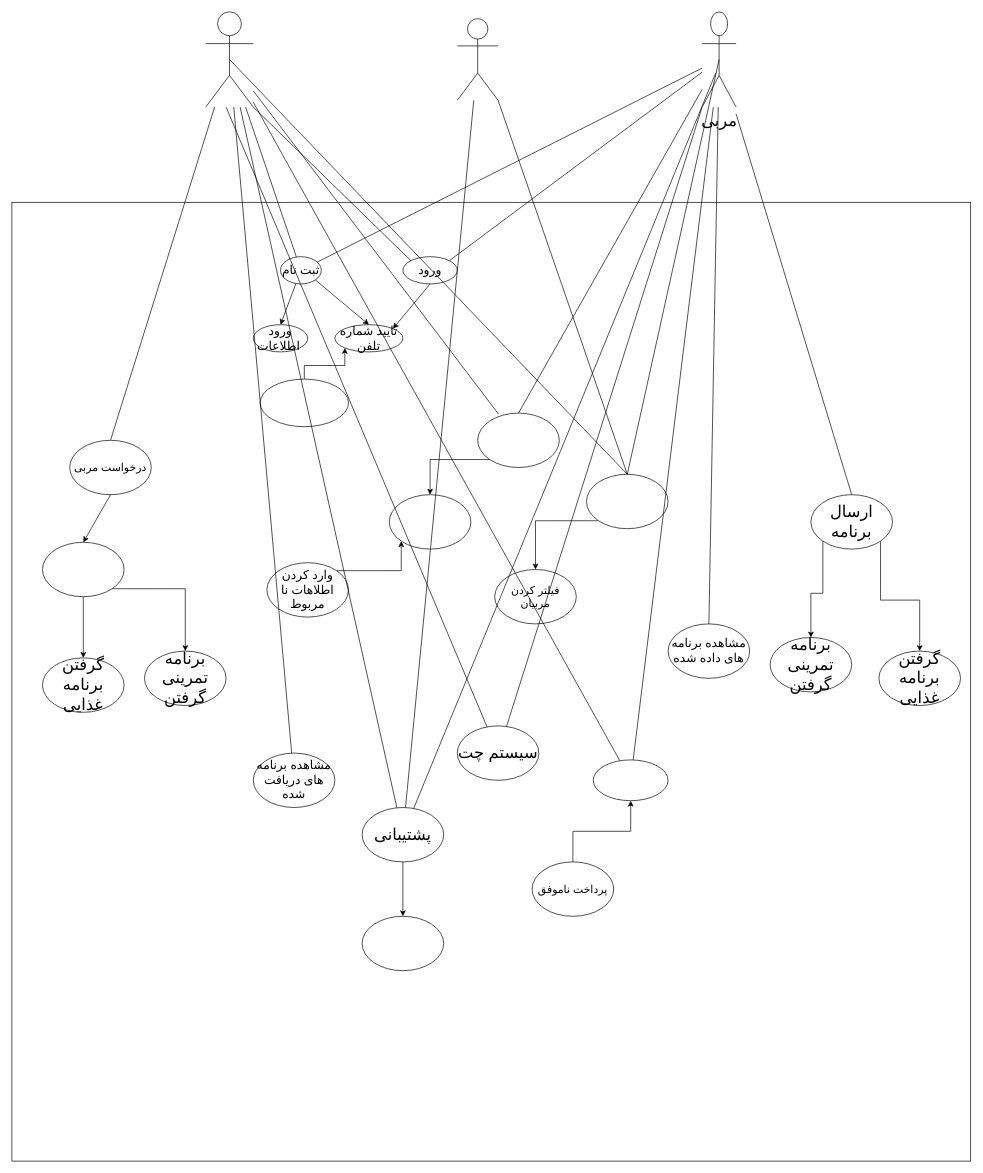
Image size: 983x1173. Some labels were removed from this diagram. The shapes that lost their labels are listed below. From the top down, each one's box as (x1, y1, x2, y2) in pixels, then its label:
(205, 11, 253, 107): ورزشکار
(457, 18, 498, 100): مدیر
(259, 378, 348, 427): ورود نا موفق اصلاح شماره تلفن
(477, 412, 559, 468): مشاهده پروفایل
(389, 494, 471, 549): ویرایش اطلاعات
(586, 474, 668, 529): جستجوی مربی ها
(42, 542, 124, 597): درخواست برنامه
(593, 759, 668, 801): پرداخت
(361, 916, 444, 971): تدوین و تنظیم قسمت اموزش
